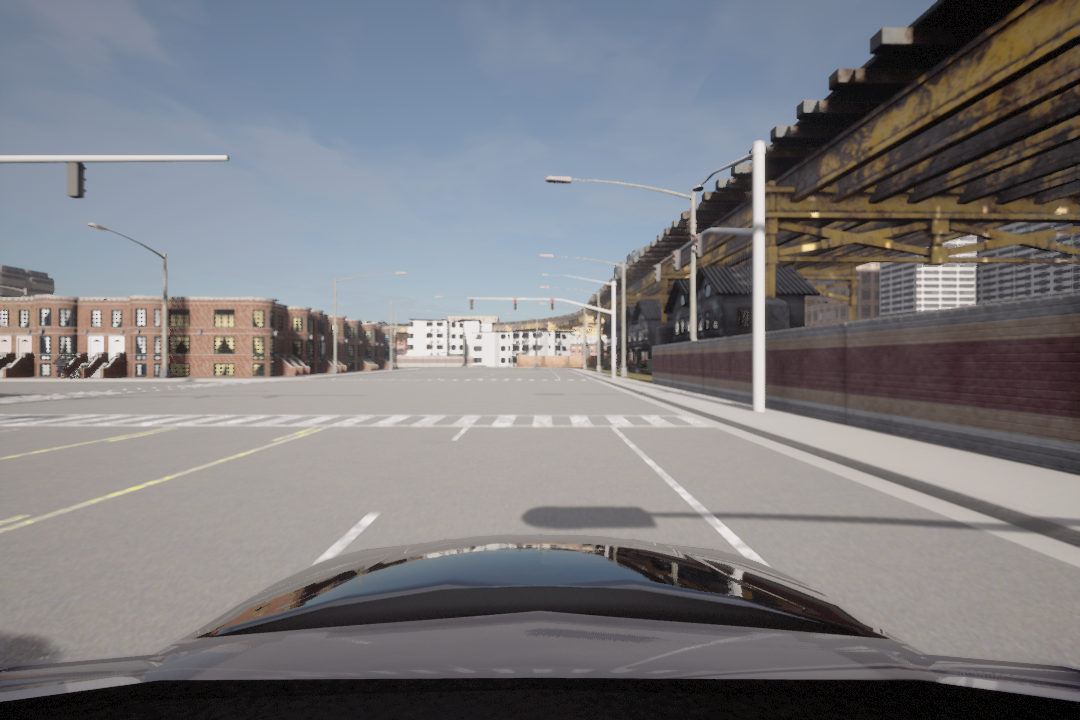walkside: (7, 404, 736, 440)
